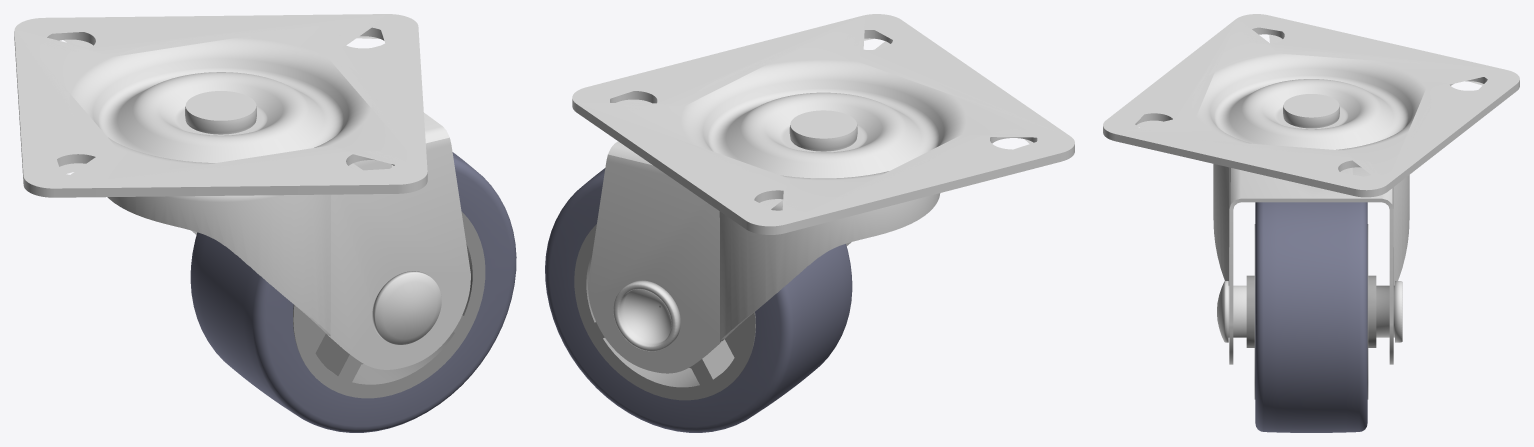
File: weels3.fbx
The picture shows the model from 3 angles, left to right: view 1: azimuth 30°, elevation 25°; view 2: azimuth 150°, elevation 25°; view 3: azimuth 270°, elevation 25°; orthographic projection. The views are drawn at different scales.
Parts seen in each view (by area): view 1: Plane.003, Cylinder.008, Cylinder.009, Cylinder.010; view 2: Plane.003, Cylinder.008, Cylinder.009, Cylinder.010; view 3: Plane.003, Cylinder.009, Cylinder.008, Cylinder.010.
Part boxes in pixels (box(x1,y1,x2,y2)): Plane.003: box(14, 14, 427, 197); Cylinder.008: box(107, 113, 470, 369); Cylinder.009: box(190, 152, 516, 432); Cylinder.010: box(372, 271, 441, 344); Plane.003: box(572, 14, 1074, 234); Cylinder.008: box(588, 141, 940, 373); Cylinder.009: box(545, 168, 852, 432); Cylinder.010: box(613, 280, 680, 351); Plane.003: box(1103, 14, 1519, 197); Cylinder.009: box(1246, 202, 1376, 432); Cylinder.008: box(1213, 164, 1409, 364); Cylinder.010: box(1217, 281, 1402, 342).
Bounding box in the file's own units: 5.63 × 3.7 × 5.21.
